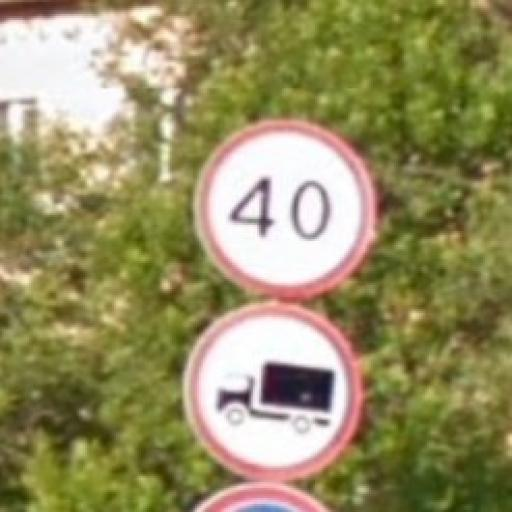traffic_sign: (192, 122, 378, 302), (183, 302, 362, 483)
